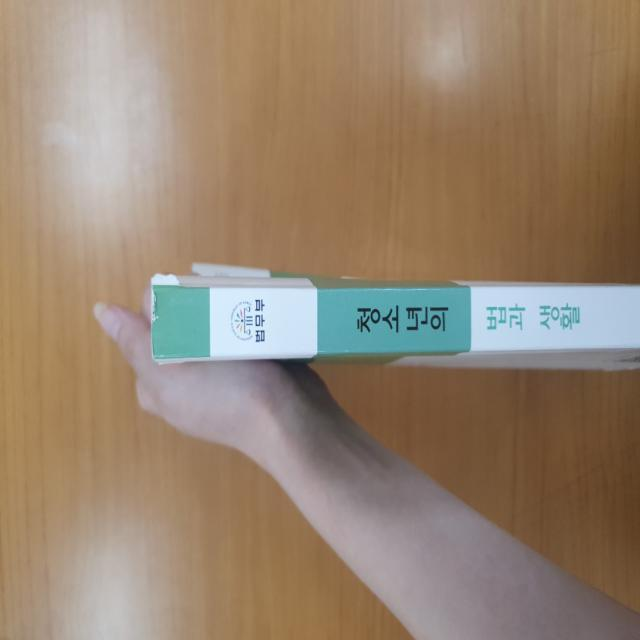Ripped: (146, 266, 185, 288)
Wornout: (148, 288, 162, 327), (146, 336, 160, 366)
